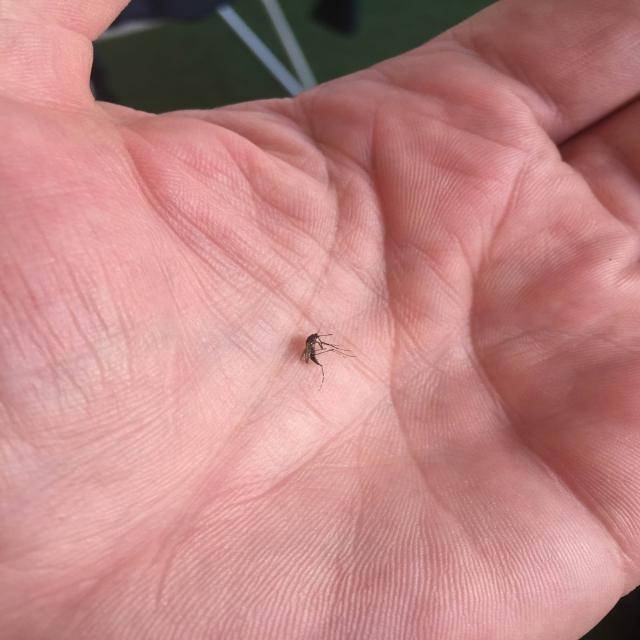albopictus: (294, 328, 362, 392)
